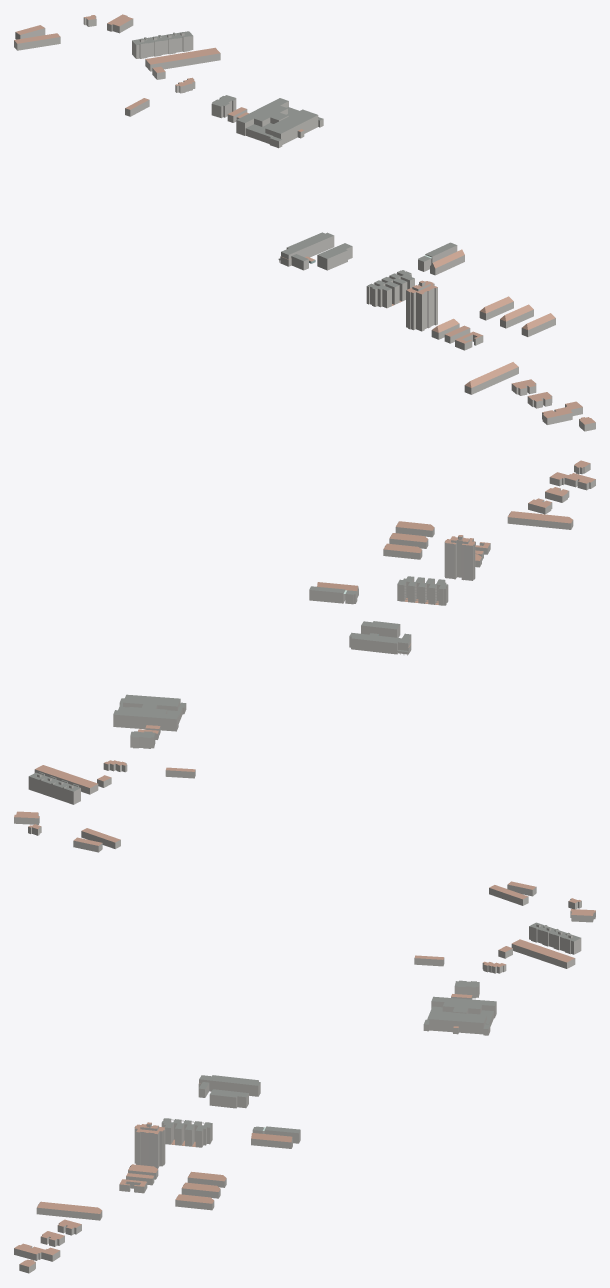
The model's file is gridID_5_high.dae.
3 renders of one model, top to bottom at view 1: azimuth 30°, elevation 25°; view 2: azimuth 150°, elevation 25°; view 3: azimuth 330°, elevation 25°, orthographic. The views are drawn at different scales.
Parts seen in each view (by area): view 1: model_gridID_5_w400460214_001, model_gridID_5_w400460214_014, model_gridID_5_w400460214_019, model_gridID_5_w400460214_032, model_gridID_5_w400460214_020, model_gridID_5_w400460214_029, model_gridID_5_w400460214_013, model_gridID_5_w400460214, model_gridID_5_w400460214_018; view 2: model_gridID_5_w400460214_001, model_gridID_5_w400460214_014, model_gridID_5_w400460214_019, model_gridID_5_w400460214_020, model_gridID_5_w400460214_032, model_gridID_5_w400460214_013, model_gridID_5_w400460214_029, model_gridID_5_w400460214, model_gridID_5_w400460214_027; view 3: model_gridID_5_w400460214_001, model_gridID_5_w400460214_014, model_gridID_5_w400460214_019, model_gridID_5_w400460214_032, model_gridID_5_w400460214_020, model_gridID_5_w400460214_013, model_gridID_5_w400460214_029, model_gridID_5_w400460214, model_gridID_5_w400460214_026.
Boxes of the visible parts, bbox=[...] form: model_gridID_5_w400460214_001: bbox=[236, 98, 323, 148]; model_gridID_5_w400460214_014: bbox=[406, 280, 437, 331]; model_gridID_5_w400460214_019: bbox=[366, 270, 414, 308]; model_gridID_5_w400460214_032: bbox=[132, 31, 193, 58]; model_gridID_5_w400460214_020: bbox=[278, 232, 334, 270]; model_gridID_5_w400460214_029: bbox=[145, 47, 220, 71]; model_gridID_5_w400460214_013: bbox=[464, 362, 518, 394]; model_gridID_5_w400460214: bbox=[317, 243, 352, 270]; model_gridID_5_w400460214_018: bbox=[14, 33, 60, 50]; model_gridID_5_w400460214_001: bbox=[113, 694, 186, 731]; model_gridID_5_w400460214_014: bbox=[444, 535, 475, 580]; model_gridID_5_w400460214_019: bbox=[397, 576, 448, 605]; model_gridID_5_w400460214_020: bbox=[349, 632, 411, 655]; model_gridID_5_w400460214_032: bbox=[28, 772, 80, 804]; model_gridID_5_w400460214_013: bbox=[507, 511, 573, 529]; model_gridID_5_w400460214_029: bbox=[34, 765, 98, 794]; model_gridID_5_w400460214: bbox=[361, 621, 400, 637]; model_gridID_5_w400460214_027: bbox=[309, 586, 345, 603]; model_gridID_5_w400460214_001: bbox=[423, 996, 496, 1035]; model_gridID_5_w400460214_014: bbox=[134, 1122, 165, 1168]; model_gridID_5_w400460214_019: bbox=[161, 1118, 212, 1147]; model_gridID_5_w400460214_032: bbox=[529, 922, 581, 954]; model_gridID_5_w400460214_020: bbox=[198, 1075, 260, 1097]; model_gridID_5_w400460214_013: bbox=[36, 1201, 102, 1220]; model_gridID_5_w400460214_029: bbox=[511, 939, 575, 968]; model_gridID_5_w400460214: bbox=[209, 1089, 248, 1108]; model_gridID_5_w400460214_026: bbox=[251, 1133, 292, 1148].
Size of the model in its own units: 196 by 1067 by 46.32.
